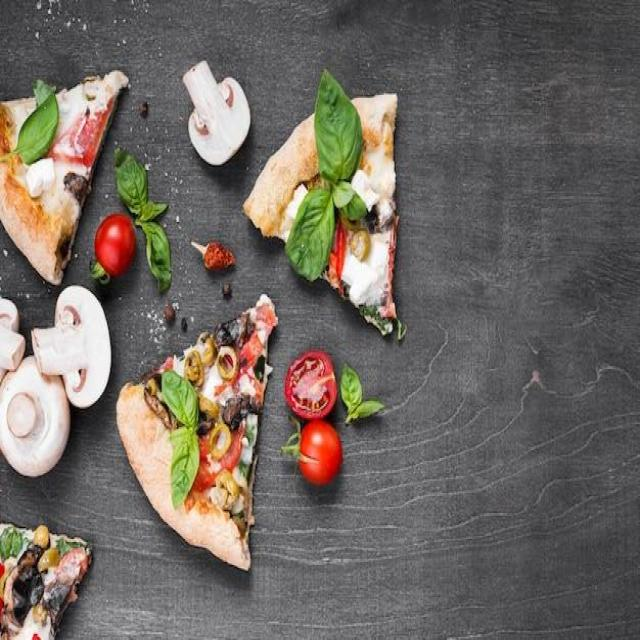basil: (288, 70, 369, 279), (115, 142, 174, 292), (160, 371, 209, 508), (0, 91, 62, 162), (340, 371, 384, 432), (0, 526, 21, 558), (52, 535, 82, 554), (240, 420, 256, 442), (226, 508, 244, 520), (238, 458, 249, 474)
olive: (212, 471, 239, 511), (209, 423, 230, 461), (217, 344, 239, 379), (349, 227, 369, 262), (196, 391, 218, 421), (185, 353, 203, 387), (38, 550, 62, 572), (31, 599, 49, 626), (30, 526, 50, 547), (201, 338, 213, 364)
pizza: (115, 294, 273, 574), (241, 66, 398, 335), (0, 71, 128, 288), (0, 515, 93, 640)
